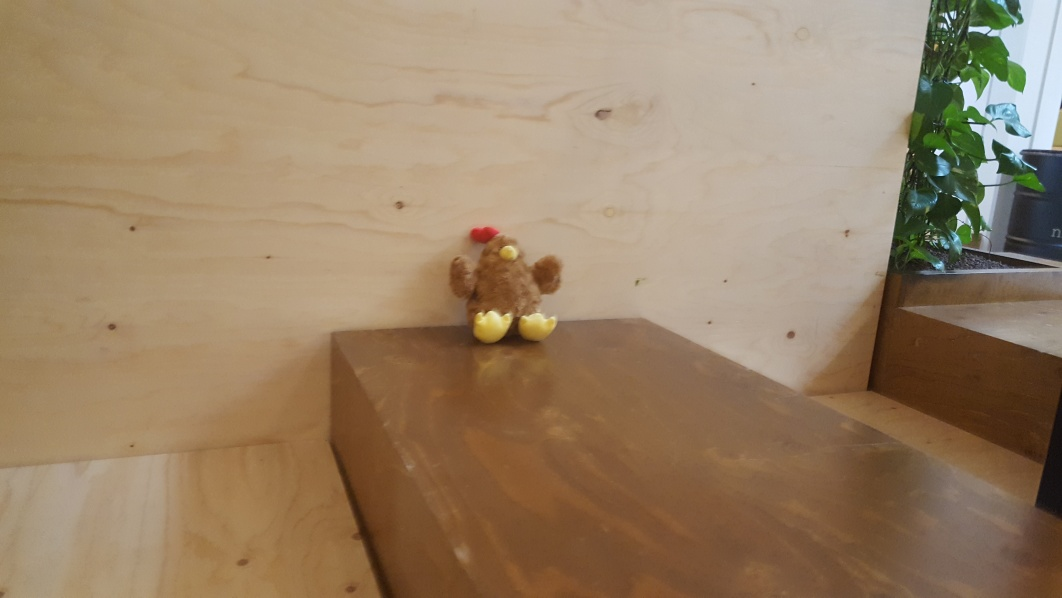chicken: (448, 226, 568, 341)
